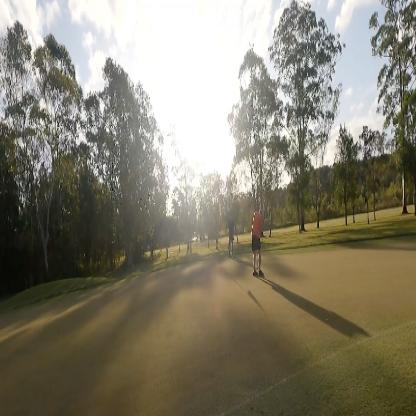streamer: (251, 209, 265, 276), (227, 212, 238, 256)
